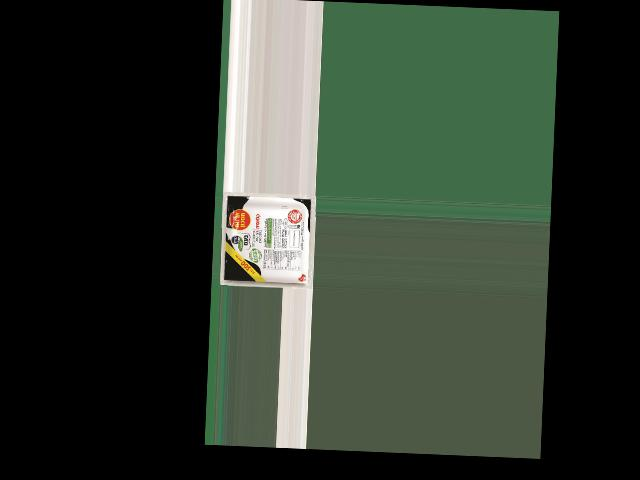cheese: (226, 194, 308, 288)
